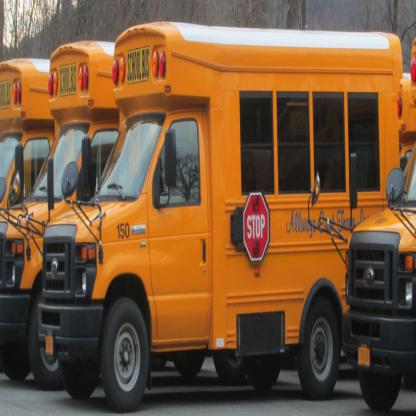Bus: (0, 17, 416, 416)
